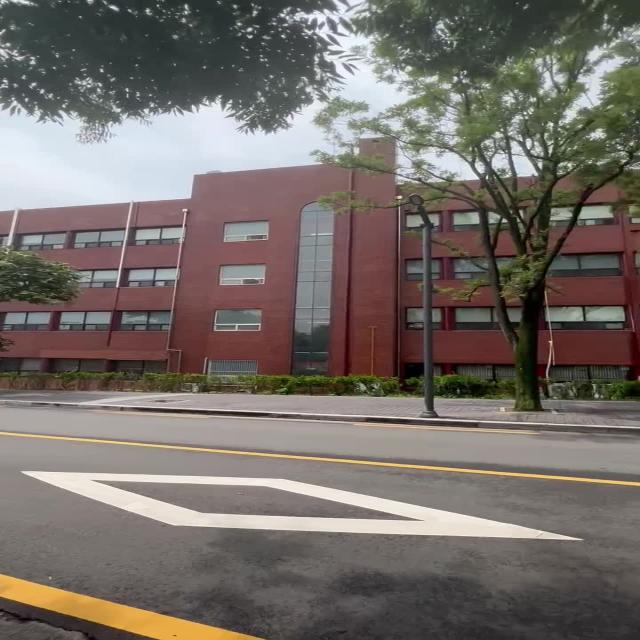building: (74, 170, 386, 375)
